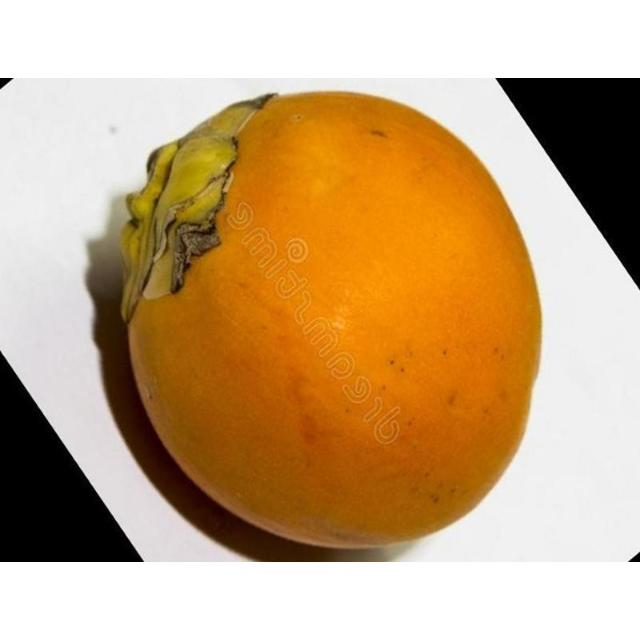good: (118, 91, 544, 552)
